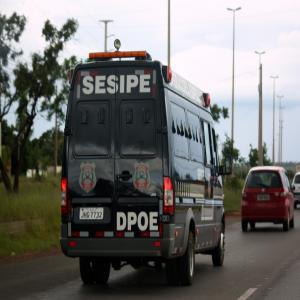Vehicle-registration-plate: (80, 209, 104, 221), (258, 194, 270, 202)
